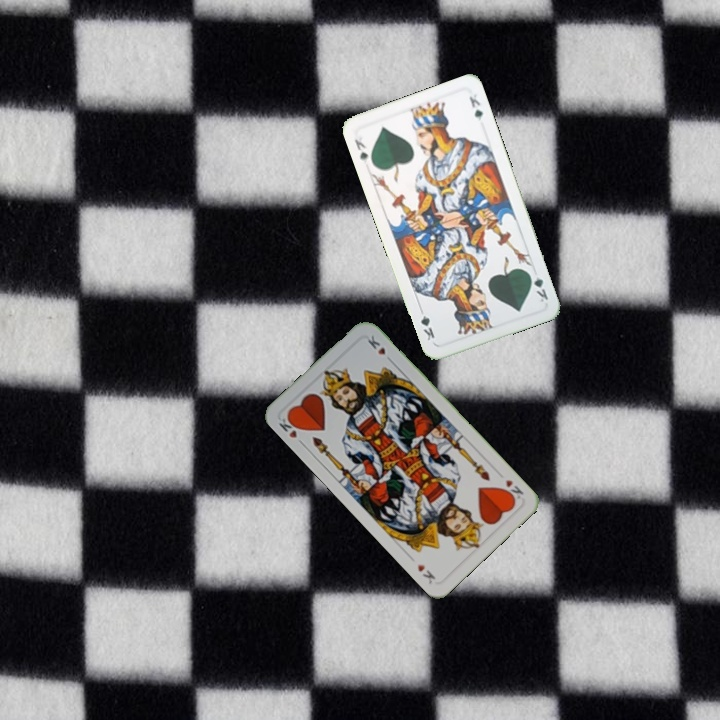GK: (525, 268, 551, 305), (350, 135, 371, 169)
HK: (274, 411, 307, 448), (499, 475, 526, 504)
